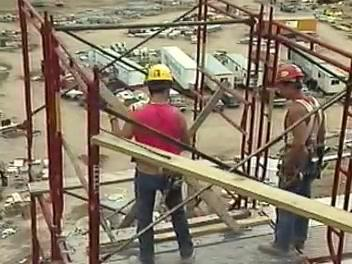no -hi-vis jacket: (133, 104, 186, 172), (286, 101, 326, 179)
